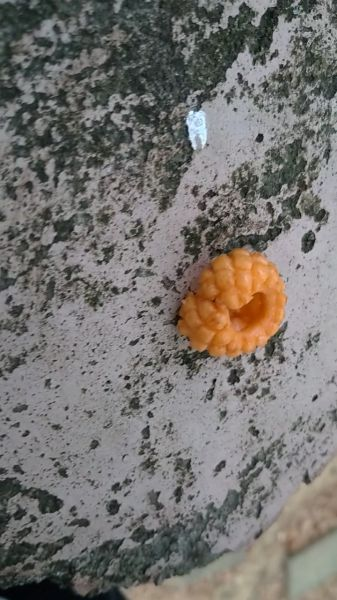eggs: (169, 241, 292, 362)
